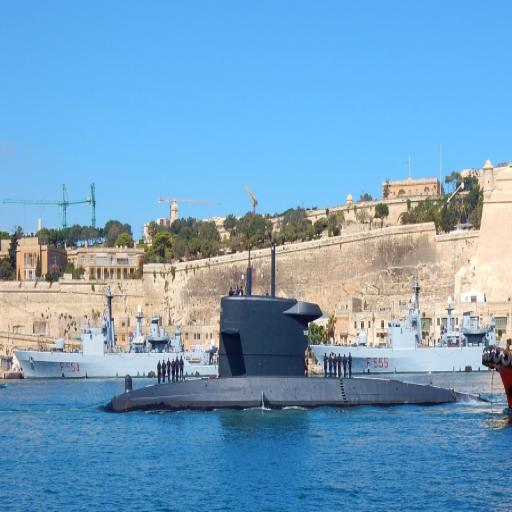submarine: (111, 244, 461, 411)
